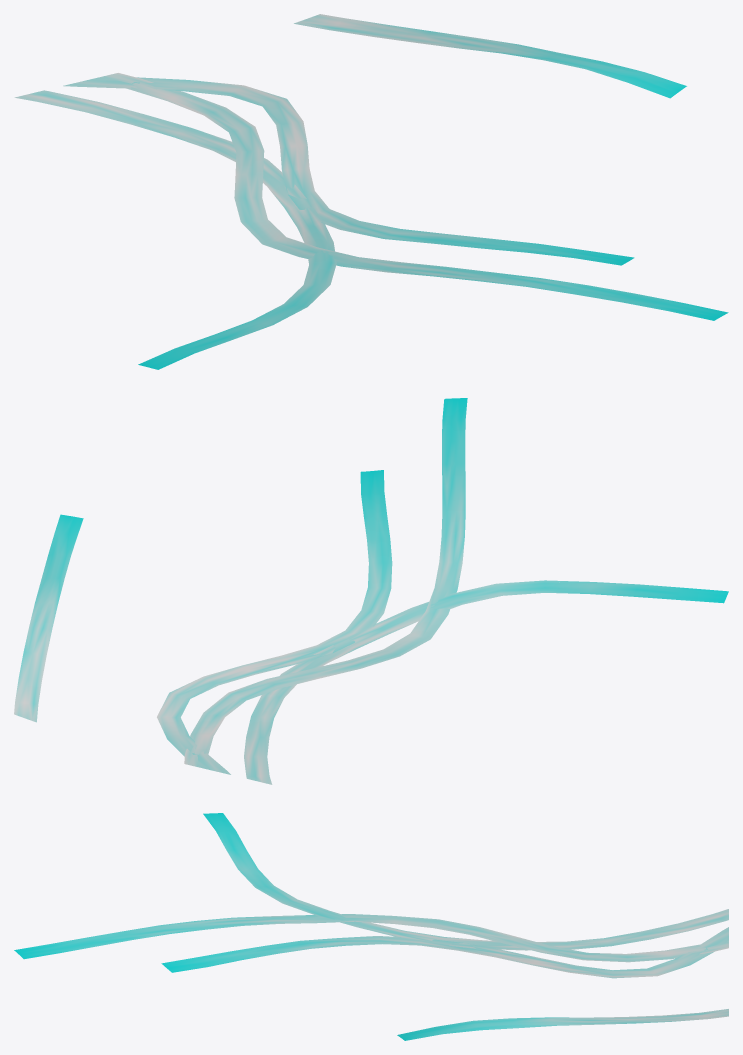
File: cell_176_115.fbx
The picture shows the model from 3 angles, top to bottom: view 1: azimuth 30°, elevation 25°; view 2: azimuth 150°, elevation 25°; view 3: azimuth 270°, elevation 25°; orthographic projection. The views are drawn at different scales.
Parts seen in each view (by area): view 1: SpaceCenter_Long3_GenerateRoad_Sand_TireTracks_Width_Mesh_x., SpaceCenter_Long3_GenerateRoad_Sand_TireTracks_Width_Mesh_x1; view 2: SpaceCenter_Long3_GenerateRoad_Sand_TireTracks_Width_Mesh_x., SpaceCenter_Long3_GenerateRoad_Sand_TireTracks_Width_Mesh_x1; view 3: SpaceCenter_Long3_GenerateRoad_Sand_TireTracks_Width_Mesh_x., SpaceCenter_Long3_GenerateRoad_Sand_TireTracks_Width_Mesh_x1.
Boxes of the visible parts, bbox=[...] form: SpaceCenter_Long3_GenerateRoad_Sand_TireTracks_Width_Mesh_x.: bbox=[14, 14, 728, 320]; SpaceCenter_Long3_GenerateRoad_Sand_TireTracks_Width_Mesh_x1: bbox=[138, 305, 295, 369]; SpaceCenter_Long3_GenerateRoad_Sand_TireTracks_Width_Mesh_x.: bbox=[14, 398, 560, 784]; SpaceCenter_Long3_GenerateRoad_Sand_TireTracks_Width_Mesh_x1: bbox=[549, 581, 728, 603]; SpaceCenter_Long3_GenerateRoad_Sand_TireTracks_Width_Mesh_x.: bbox=[14, 881, 728, 1040]; SpaceCenter_Long3_GenerateRoad_Sand_TireTracks_Width_Mesh_x1: bbox=[203, 813, 271, 883].
Size of the model in its own units: 27.84 by 2.43 by 33.63.
